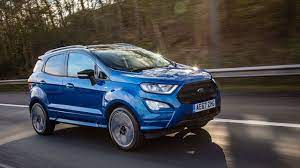Ford: (30, 44, 222, 148)
